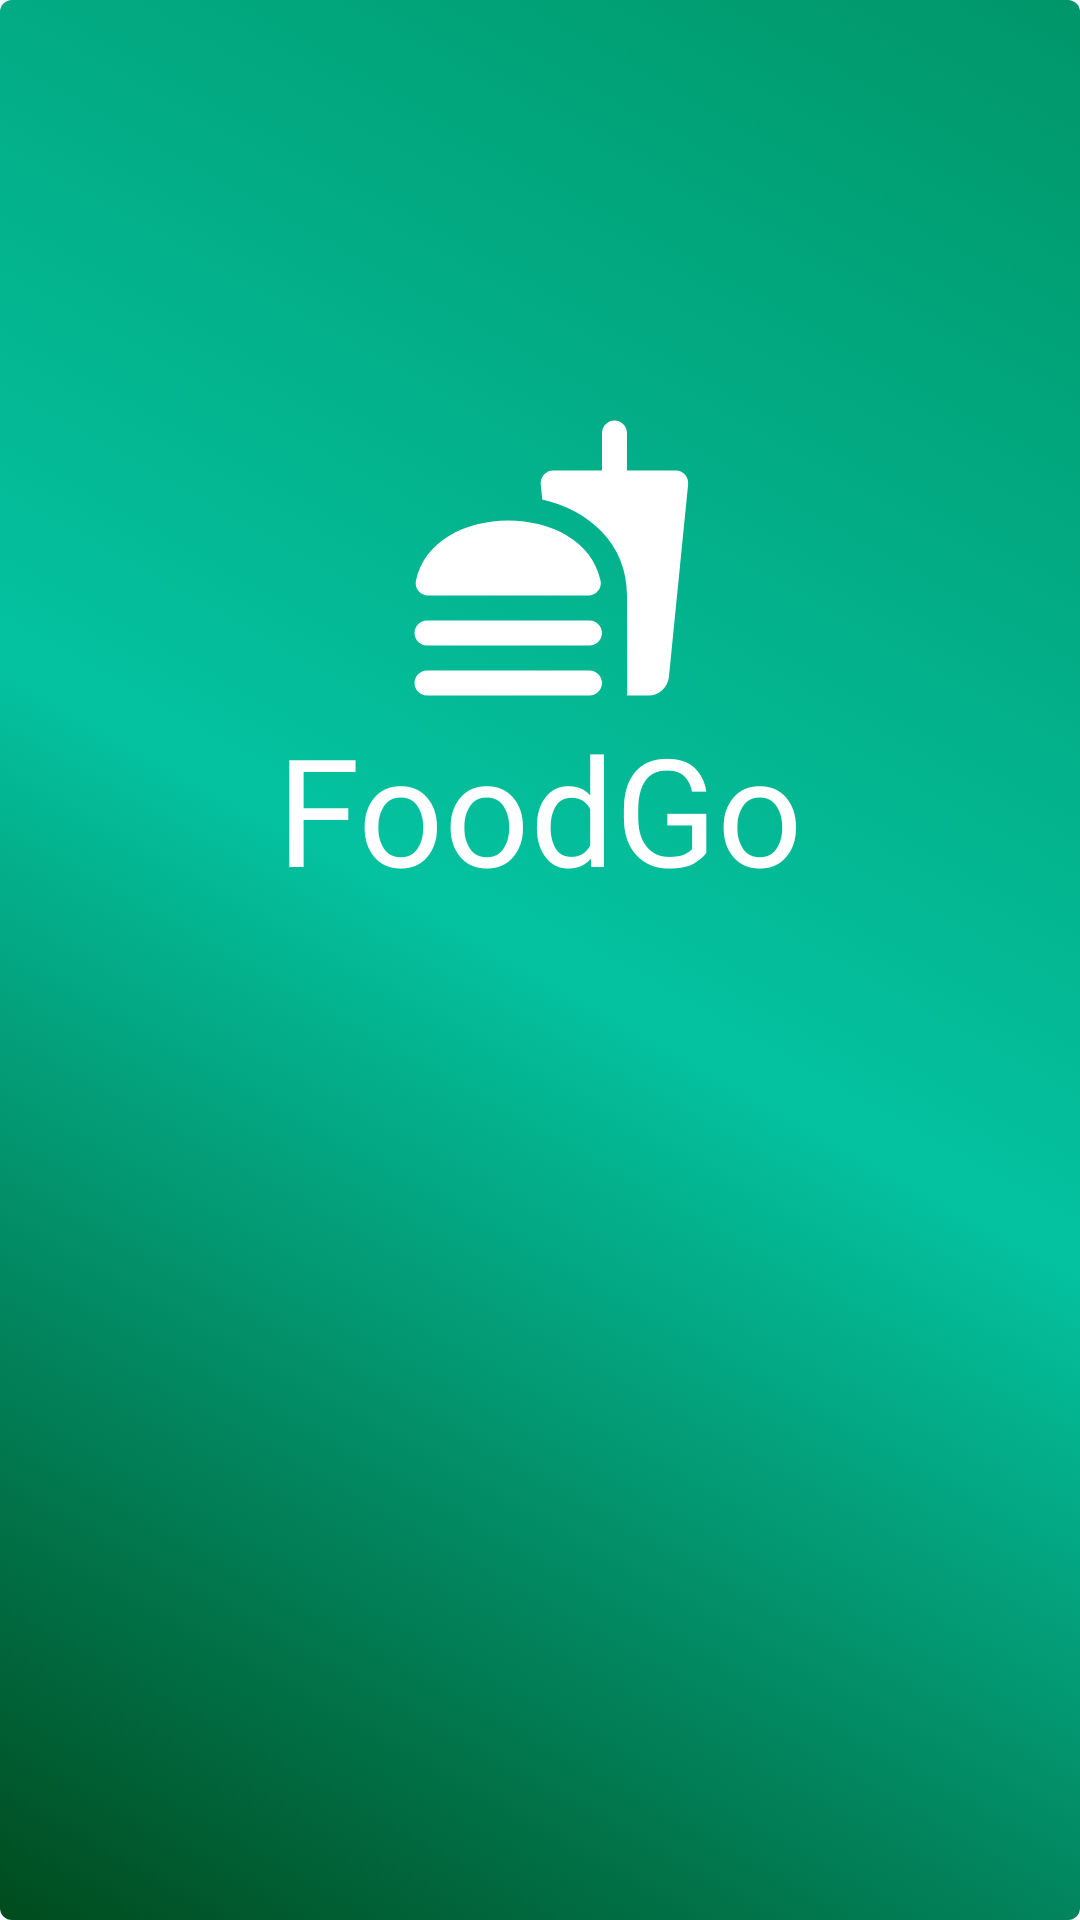

Point at icon controls on the screen. Image size 1080x1920, points as [x,y].
fastfood: [551,558]
